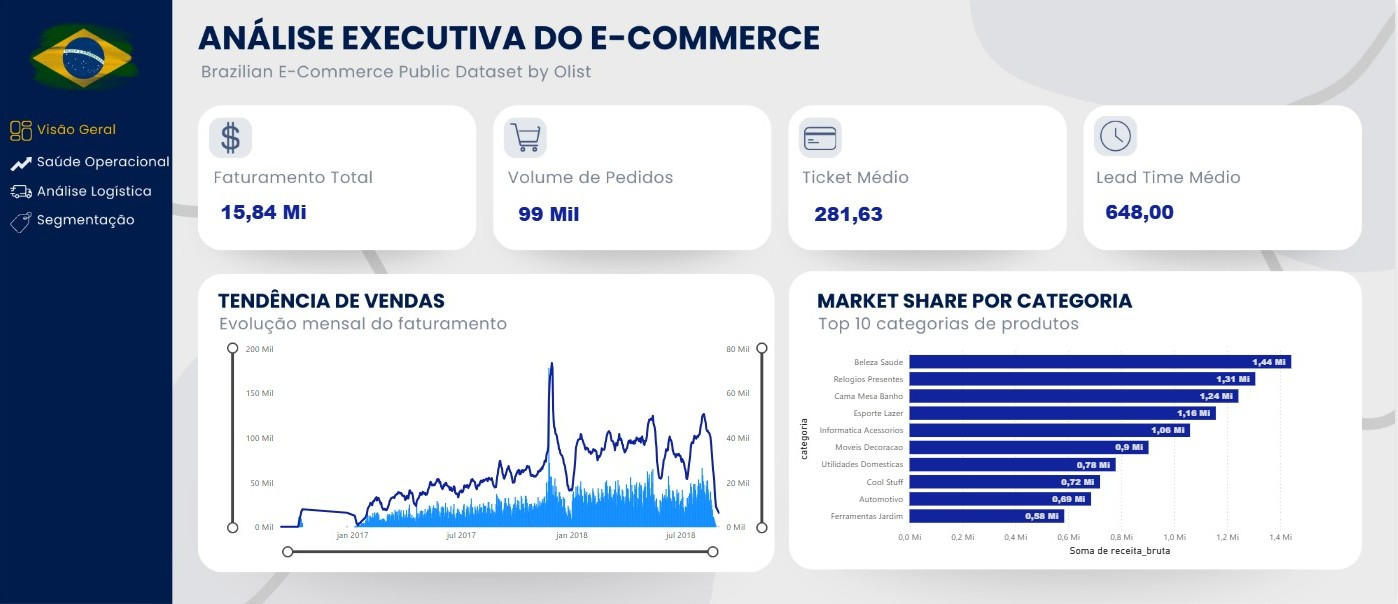

What the dashboard file says about the page in this screenshot:
{"tool":"powerbi","page":{"name":"Visão Geral","canvas":[2000,866],"ordinal":0},"visuals":[{"type":"cardVisual","fields":{"Data":["Sum(Curva de Vendas.receita_total)"]},"box":[374,268,260,78],"z":0},{"type":"cardVisual","fields":{"Data":["Sum(Curva de Vendas.qtd_pedidos)"]},"box":[718,268,212,76],"z":1000},{"type":"cardVisual","fields":{"Data":["Sum(Fim de Semana.ticket_medio)"]},"box":[1215,266.2,218.8,77.5],"z":2000},{"type":"cardVisual","fields":{"Data":["Avg(Análise de SLA Logístico.media_global)"]},"box":[1566,268,220,74],"z":3000},{"type":"lineStackedColumnComboChart","fields":{"Category":["Média Móvel de 7 Dias.dat_ref"],"Y":["Sum(Média Móvel de 7 Dias.receita_dia)"],"Y2":["Sum(Média Móvel de 7 Dias.media_movel_7d)"]},"box":[328.5,484.5,778.5,314.7],"z":4000},{"type":"barChart","fields":{"Category":["Ranking de Categorias.categoria"],"Y":["Sum(Ranking de Categorias.receita_bruta)"]},"box":[1141.5,484.5,788.1,314.7],"z":5000},{"type":"actionButton","box":[0,209.8,252.6,40],"z":6000},{"type":"actionButton","box":[0,249.8,252.6,40],"z":7000},{"type":"actionButton","box":[0,296.8,252.6,40],"z":8000}]}

Visuals, with their boxes on the page's 2000x866 design canvas (x1, y1, x2, y2). These are canvas units, not pixel positions in the 1398x604 screenshot, which may show the page scaled, cropped or inside an application window:
cardVisual - Sum(Curva de Vendas.receita_total): bbox(374, 268, 634, 346)
cardVisual - Sum(Curva de Vendas.qtd_pedidos): bbox(718, 268, 930, 344)
cardVisual - Sum(Fim de Semana.ticket_medio): bbox(1215, 266, 1434, 344)
cardVisual - Avg(Análise de SLA Logístico.media_global): bbox(1566, 268, 1786, 342)
lineStackedColumnComboChart - Média Móvel de 7 Dias.dat_ref x Sum(Média Móvel de 7 Dias.receita_dia): bbox(328, 484, 1107, 799)
barChart - Ranking de Categorias.categoria x Sum(Ranking de Categorias.receita_bruta): bbox(1142, 484, 1930, 799)
actionButton: bbox(0, 210, 253, 250)
actionButton: bbox(0, 250, 253, 290)
actionButton: bbox(0, 297, 253, 337)
